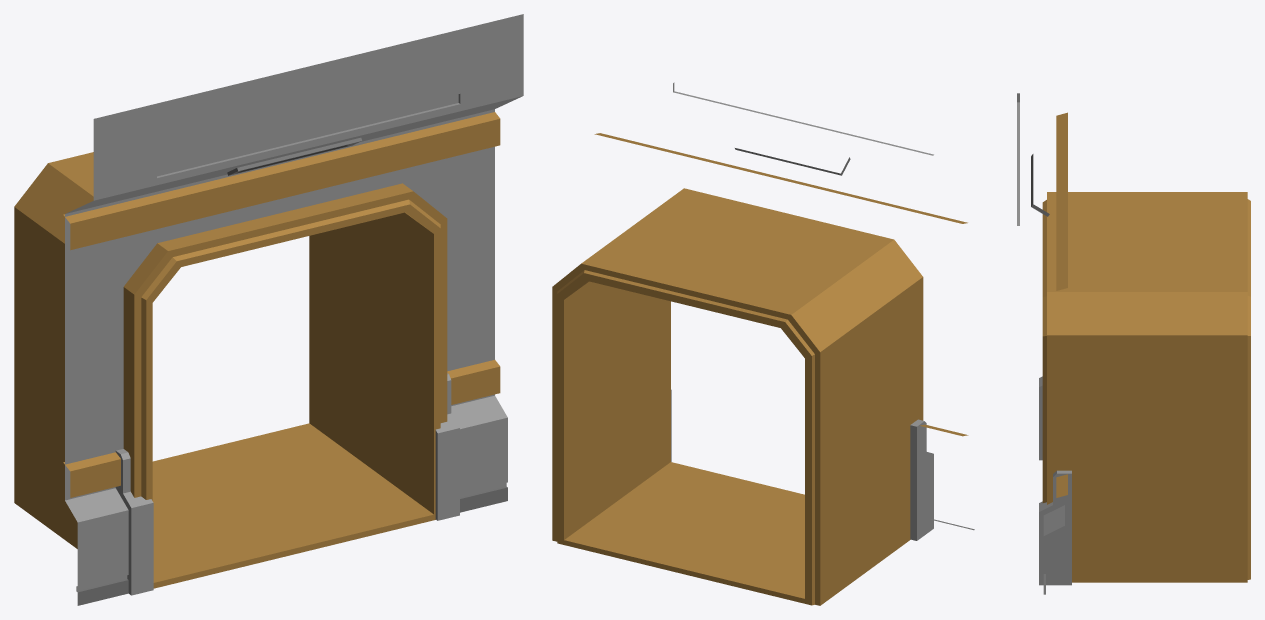
The picture shows the model from 3 angles, left to right: view 1: azimuth 30°, elevation 25°; view 2: azimuth 150°, elevation 25°; view 3: azimuth 270°, elevation 25°; orthographic projection. The views are drawn at different scales.
Parts seen in each view (by area): view 1: DoorDoubleLong_Wall_SideA; view 2: DoorDoubleLong_Wall_SideA; view 3: DoorDoubleLong_Wall_SideA.
Part boxes in pixels (x1,y1,x2,y2): DoorDoubleLong_Wall_SideA: (14,14,523,605); DoorDoubleLong_Wall_SideA: (552,82,974,605); DoorDoubleLong_Wall_SideA: (1017,93,1250,594).
Bounding box in the file's own units: 4 × 4.44 × 2.25.
